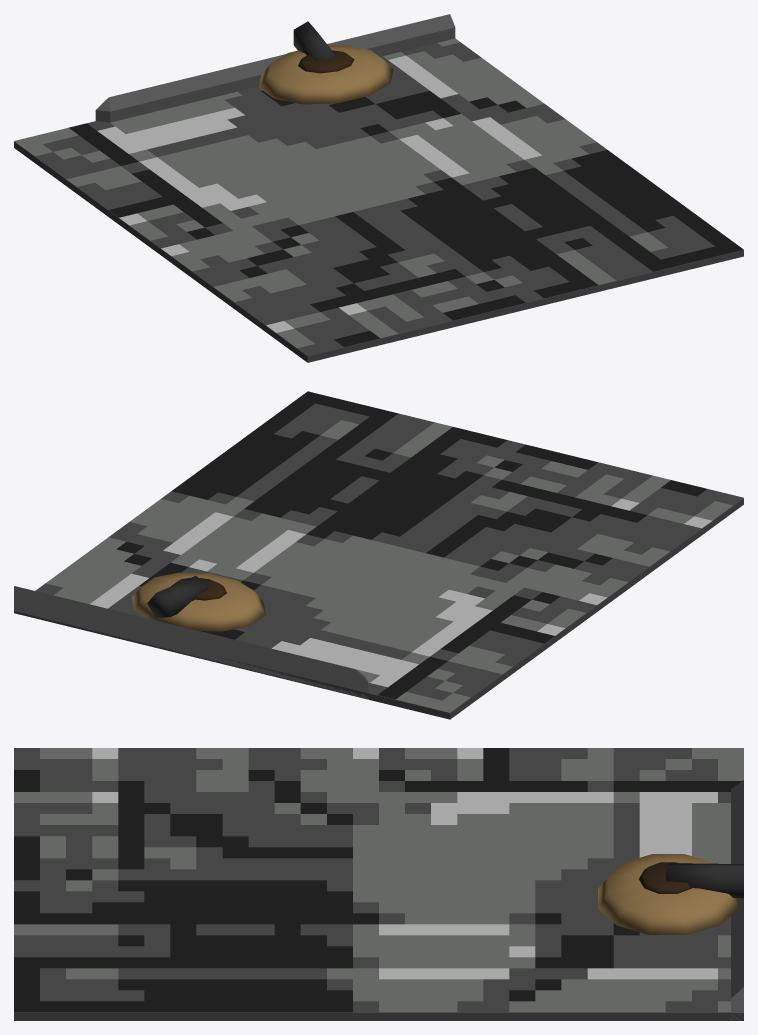
Rendered from newshp-39.glb.
3 renders of one model, top to bottom at view 1: azimuth 30°, elevation 25°; view 2: azimuth 150°, elevation 25°; view 3: azimuth 270°, elevation 25°, orthographic. The views are drawn at different scales.
Visible parts, largest first — view 1: newshp-39; view 2: newshp-39; view 3: newshp-39.
Boxes of the visible parts, x1=… form: newshp-39: x1=14, y1=14, x2=743, y2=362; newshp-39: x1=14, y1=391, x2=743, y2=719; newshp-39: x1=14, y1=748, x2=743, y2=1020.
Bounding box in the file's own units: 2 × 0.2405 × 2.33.
